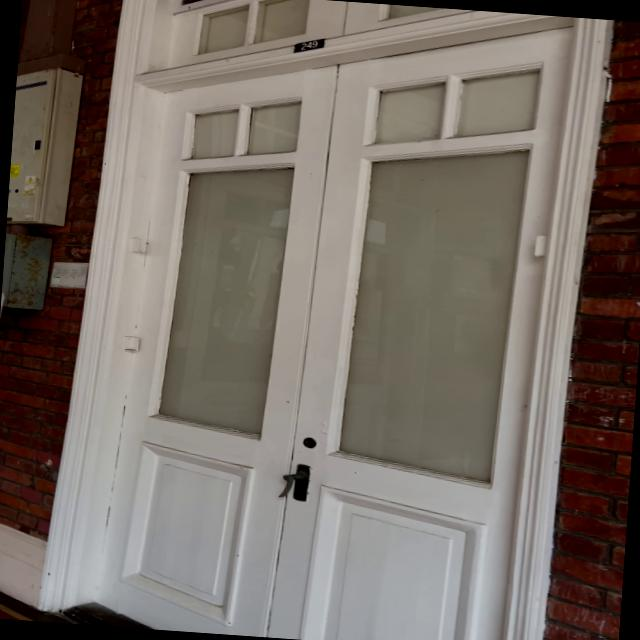room249: (286, 33, 328, 59)
